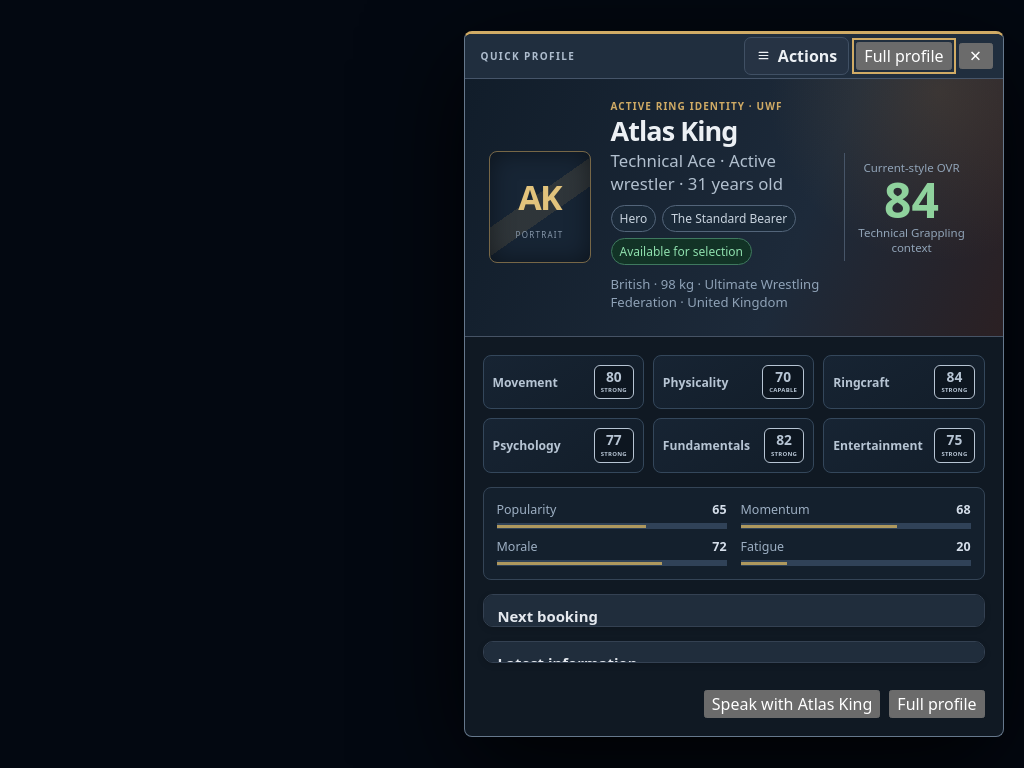
Scenario: Person profile hub › does not silently evict a worker when comparison is full
This screenshot has width=1024, height=768.
Expected: the heading "Atlas King" is shown, [610,112,737,149]
Click the heading "Actions": x=797, y=56 [744,37,849,75]
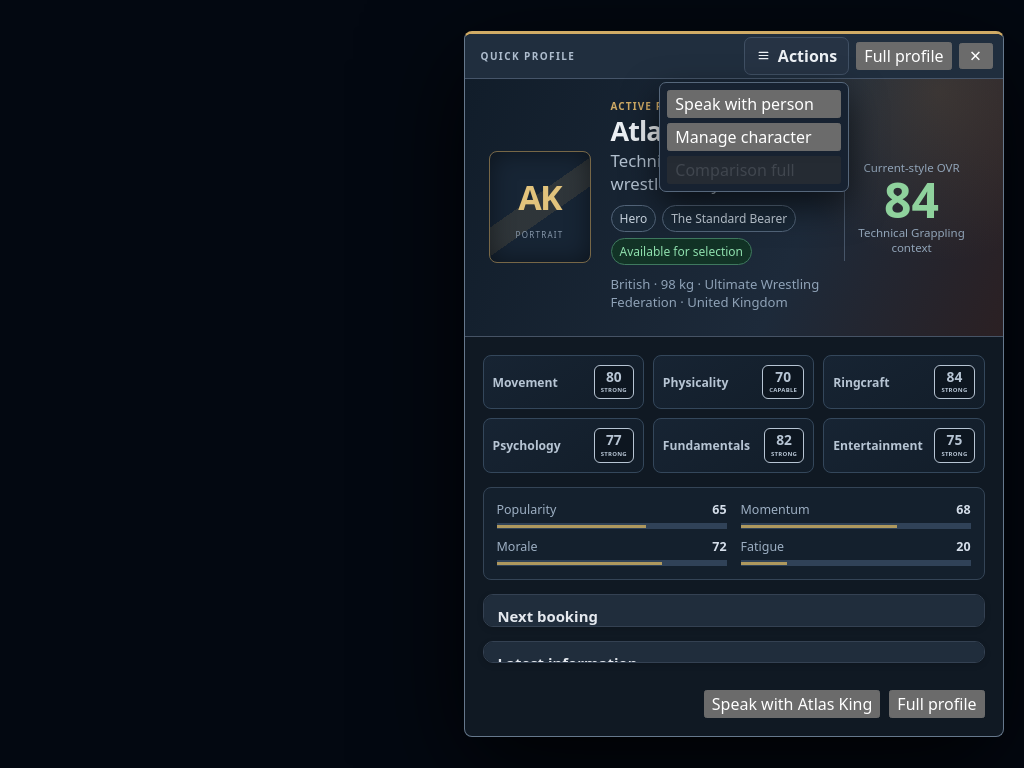
Result: the button "Comparison full" is disabled at [667,156,841,184]
